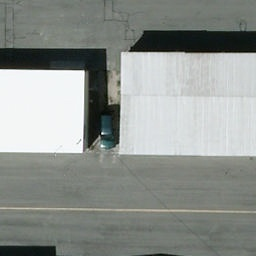car: (98, 112, 118, 150)
